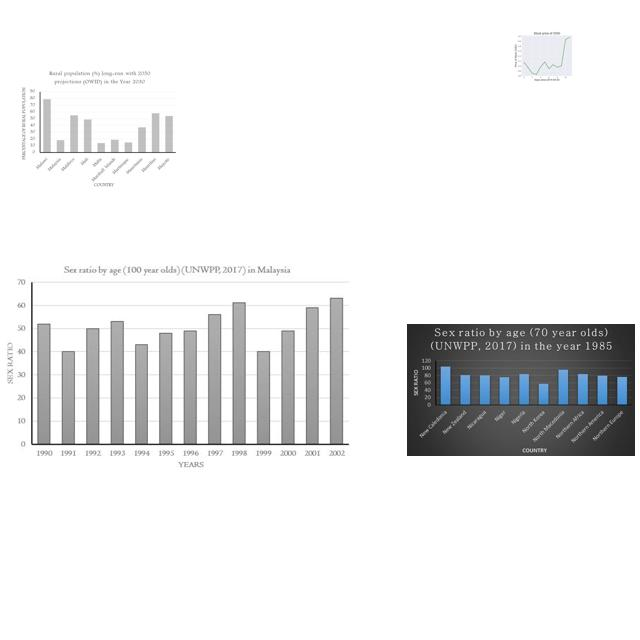Graph: (1, 260, 353, 474), (407, 324, 635, 456), (19, 69, 178, 190), (511, 29, 581, 82)
